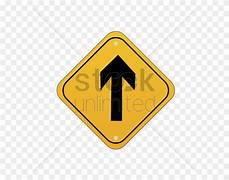forward: (57, 32, 176, 149)
